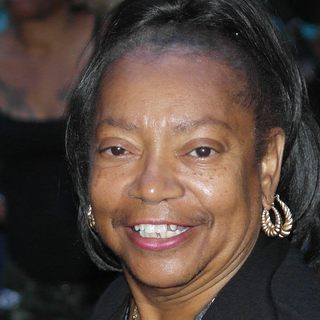eye: (180, 140, 226, 165), (96, 139, 135, 163)
